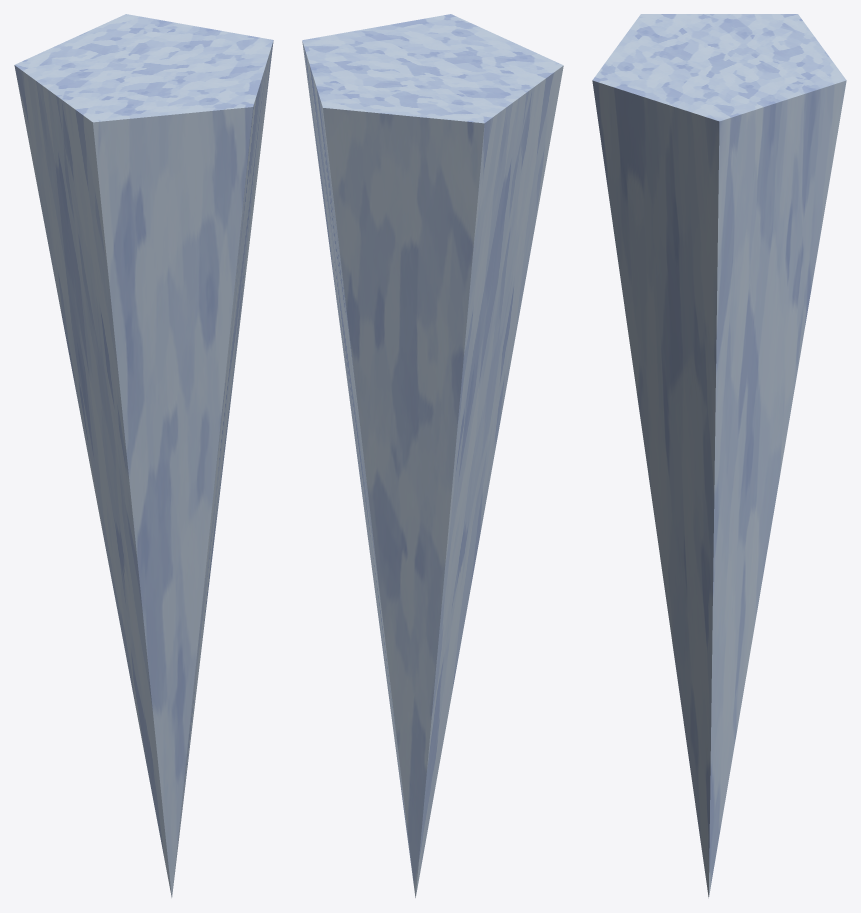
Rendered from icicle_medium.glb.
3 renders of one model, left to right at view 1: azimuth 30°, elevation 25°; view 2: azimuth 150°, elevation 25°; view 3: azimuth 270°, elevation 25°, orthographic.
Parts seen in each view (by area): view 1: winter_icicle_medium; view 2: winter_icicle_medium; view 3: winter_icicle_medium.
Part boxes in pixels (x1=…): winter_icicle_medium: x1=14, y1=14, x2=273, y2=897; winter_icicle_medium: x1=302, y1=14, x2=563, y2=897; winter_icicle_medium: x1=592, y1=14, x2=846, y2=898.
Bounding box in the file's own units: 0.1 × 0.36 × 0.1.
Materials: 1 (1 with a texture image).
